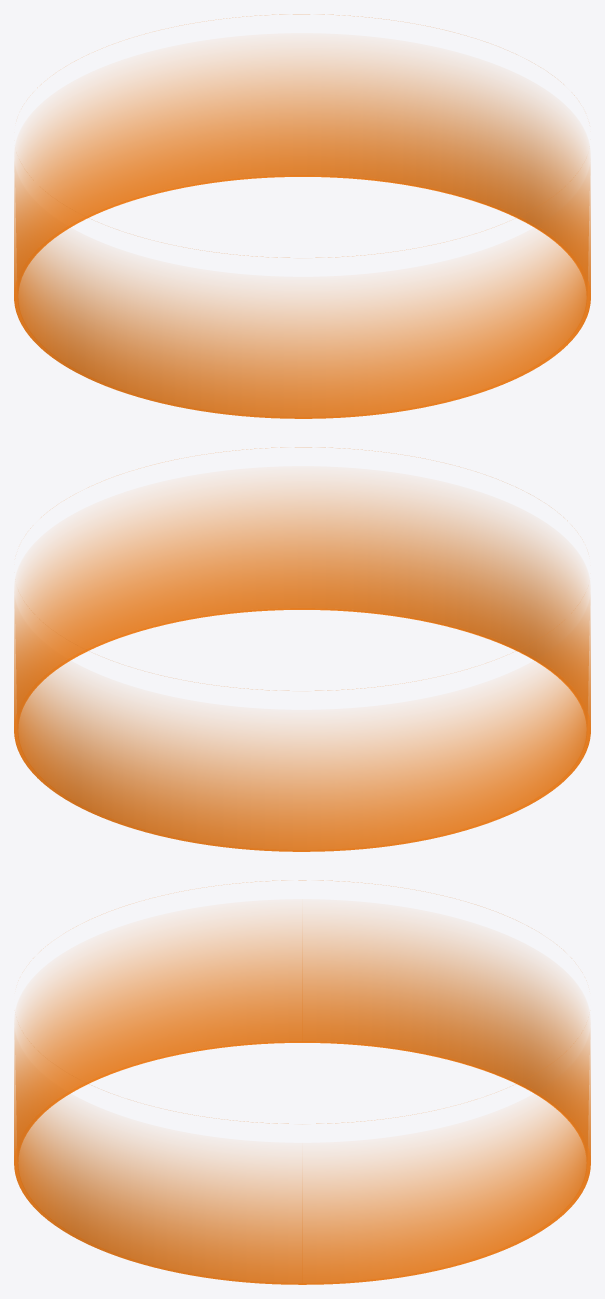
3 views of the same model, one above another, from view 1: azimuth 30°, elevation 25°; view 2: azimuth 150°, elevation 25°; view 3: azimuth 270°, elevation 25° (orthographic).
Size of the model in its own units: 13 by 4 by 13.
Materials: 3 (3 with a texture image).
